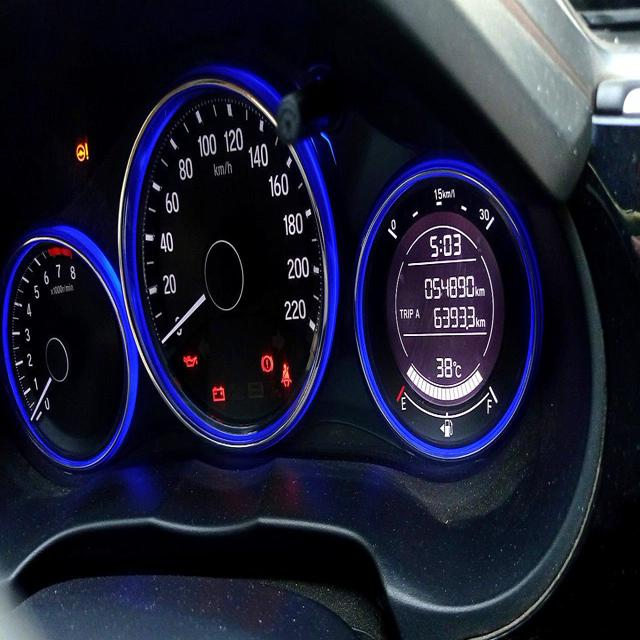odometer: (423, 272, 477, 301)
